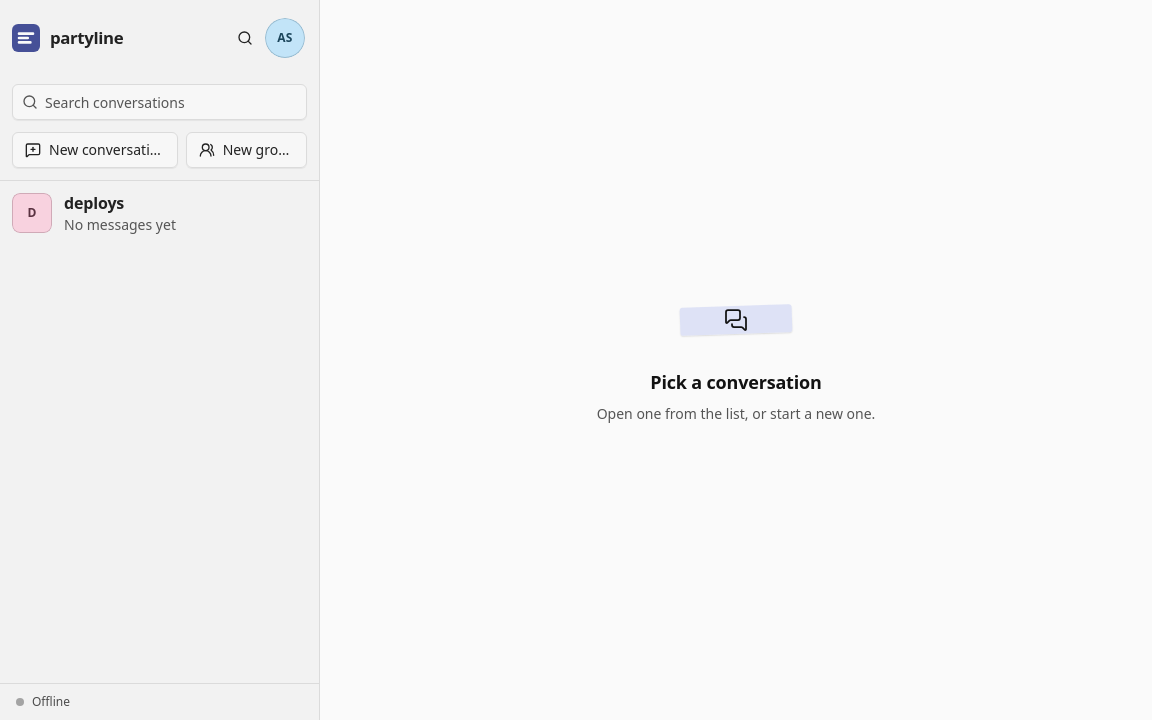
Test: who can be picked (LAY-03) › lists the AIs of the user's organizations, the ones they host and the other users in one list by name (AD-024)
The image size is (1152, 720).
Click the button "New conversation": (95, 150) [12,132,178,168]
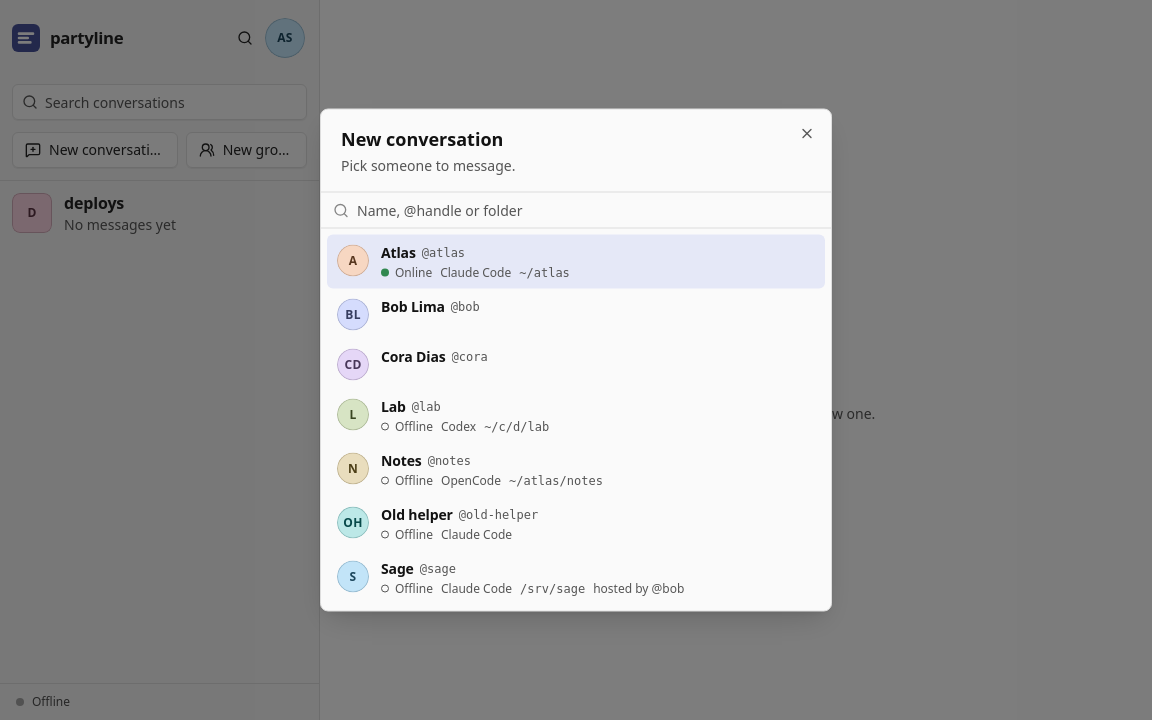
Now the option with test id "contact-a1" is shown, box [327,234,825,288]
